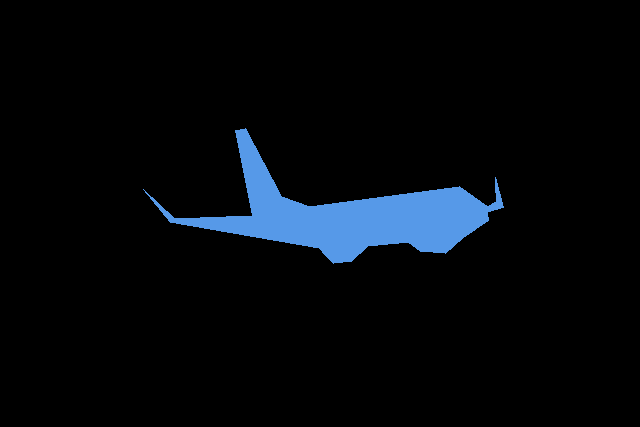Airplane: (143, 128, 503, 263)
